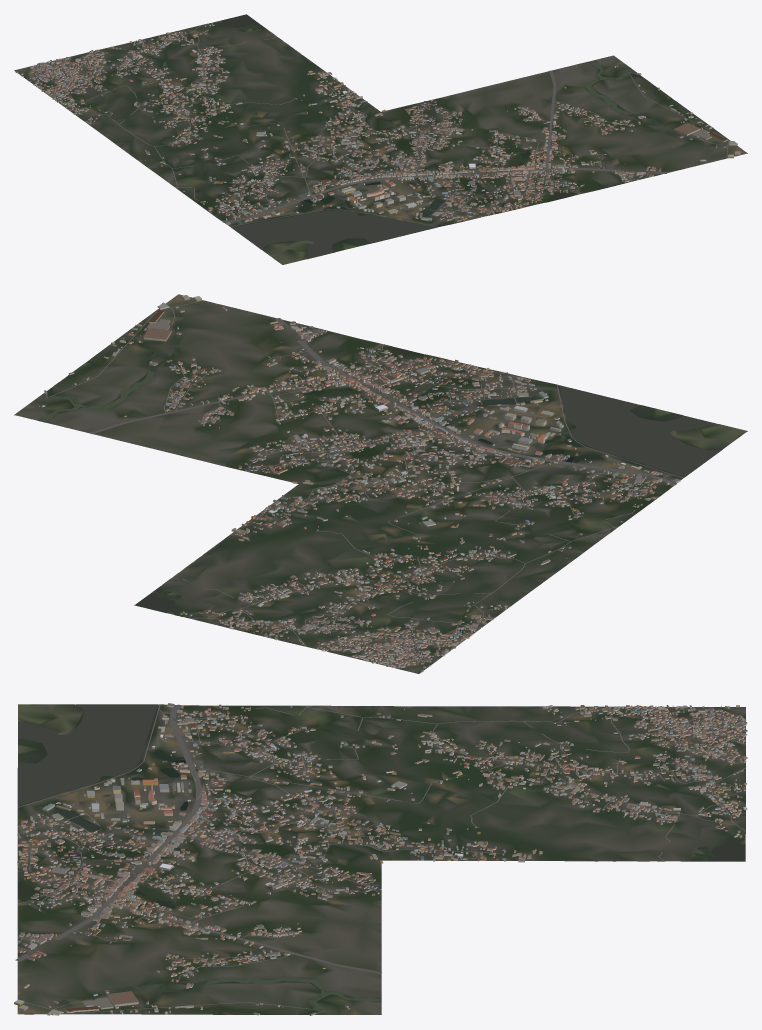
3 views of the same model, one above another, from view 1: azimuth 30°, elevation 25°; view 2: azimuth 150°, elevation 25°; view 3: azimuth 270°, elevation 25° (orthographic). The views are drawn at different scales.
Parts seen in each view (by area): view 1: ground, buildings, water, roads; view 2: ground, buildings, water, roads; view 3: ground, buildings, water, roads.
Boxes of the visible parts, <box> form: ground: <box>14,20,747,264</box>; buildings: <box>15,23,740,224</box>; water: <box>212,14,716,258</box>; roads: <box>34,25,735,227</box>; ground: <box>14,294,747,673</box>; buildings: <box>38,295,680,672</box>; water: <box>39,297,721,615</box>; roads: <box>46,300,683,668</box>; ground: <box>17,704,745,1014</box>; buildings: <box>14,703,747,1015</box>; water: <box>18,704,745,1014</box>; roads: <box>15,704,745,1013</box>.
Size of the model in its own units: 2821 by 36.92 by 2827.
